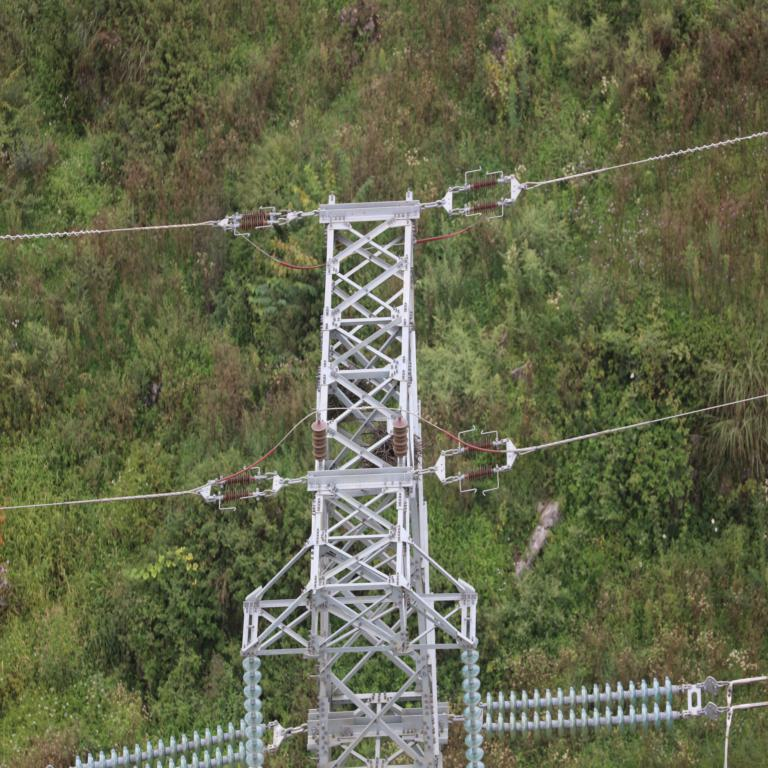nest: (372, 420, 407, 466)
